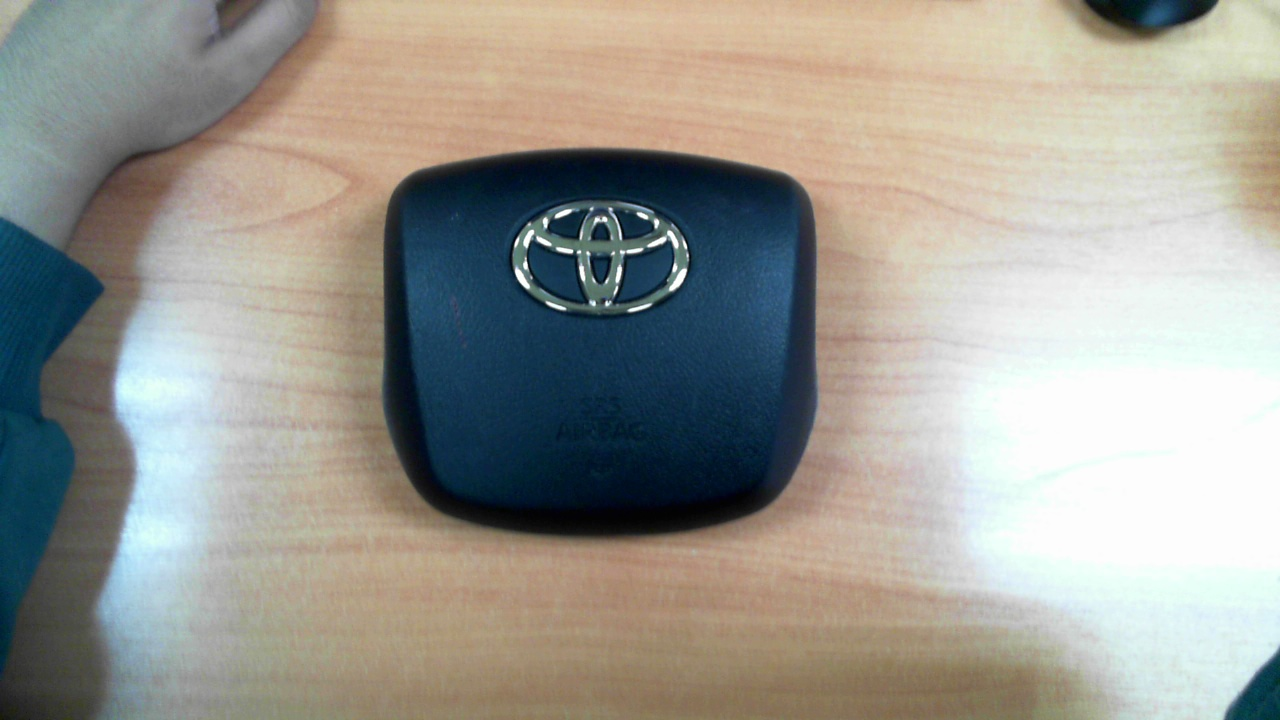Airbag: (381, 148, 819, 539)
Toyota: (511, 200, 689, 315)
